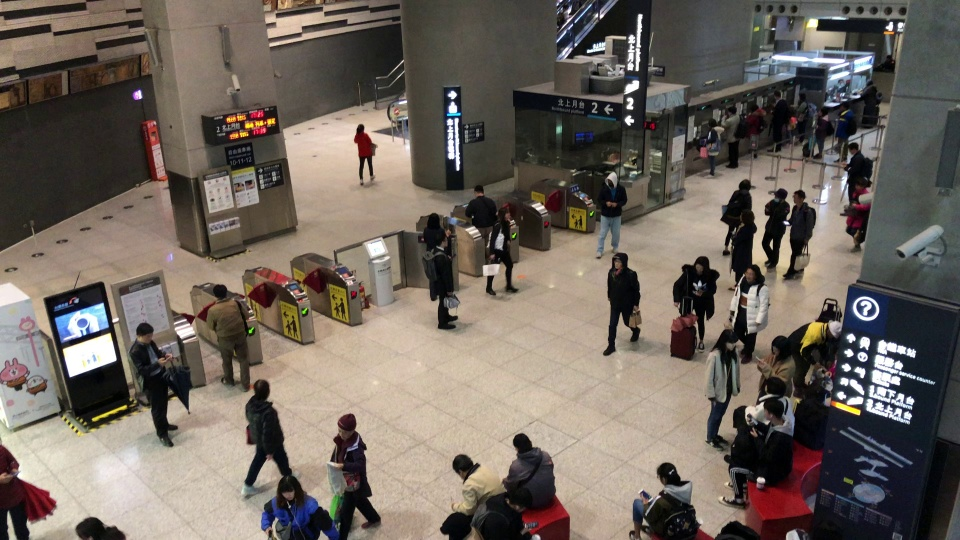person_head: (74, 516, 127, 540), (439, 512, 471, 539), (506, 486, 532, 512), (277, 474, 301, 498), (337, 412, 357, 440), (451, 453, 473, 478), (656, 462, 678, 485), (714, 329, 738, 350), (762, 398, 784, 420), (770, 335, 790, 359), (512, 433, 532, 454), (764, 376, 786, 395), (135, 322, 154, 343), (252, 378, 270, 399), (827, 318, 841, 339), (610, 252, 628, 268), (693, 256, 709, 273), (745, 264, 760, 282), (212, 283, 228, 299), (426, 212, 441, 229), (434, 230, 448, 248), (739, 209, 755, 223), (855, 177, 872, 190), (793, 189, 806, 205), (607, 171, 618, 189), (497, 206, 511, 220), (773, 188, 788, 201), (847, 141, 859, 154), (474, 184, 485, 197), (738, 179, 751, 190), (748, 102, 759, 113), (817, 106, 829, 116), (839, 101, 849, 111), (707, 118, 717, 128), (727, 106, 737, 116), (772, 90, 782, 100), (796, 91, 806, 101), (356, 123, 364, 133), (865, 79, 873, 86), (562, 4, 569, 10)
person_vbox: (717, 399, 794, 508), (330, 411, 382, 540), (127, 322, 178, 448), (723, 376, 795, 463), (240, 380, 292, 498), (629, 461, 700, 540), (259, 474, 338, 540), (206, 284, 250, 393), (672, 256, 720, 352), (703, 329, 740, 451), (786, 320, 842, 398), (502, 433, 556, 511), (728, 264, 769, 365), (602, 252, 641, 355), (451, 454, 507, 515), (782, 189, 817, 280), (485, 207, 519, 294), (429, 231, 459, 329), (0, 444, 30, 540), (756, 335, 796, 404), (596, 171, 627, 260), (480, 486, 531, 540), (464, 184, 497, 264), (719, 179, 753, 255), (422, 213, 451, 301), (839, 141, 873, 216), (761, 188, 790, 272), (727, 210, 757, 290), (845, 177, 872, 253), (695, 117, 726, 179), (720, 105, 749, 169), (768, 90, 792, 151), (790, 92, 817, 145), (744, 102, 768, 160), (354, 123, 375, 185), (834, 100, 854, 164), (438, 511, 482, 540), (811, 107, 834, 159), (858, 78, 881, 127), (557, 4, 568, 27), (571, 0, 585, 14)
